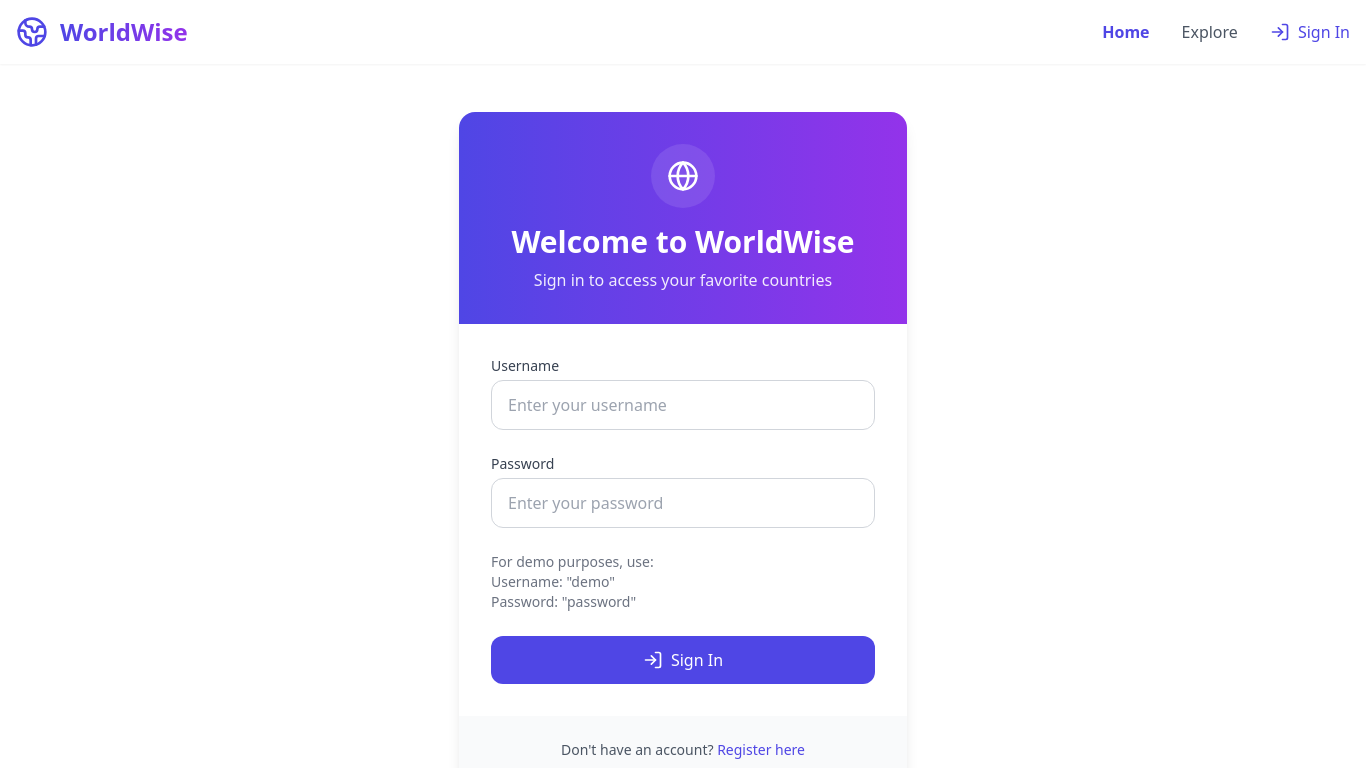
LoginPage › shows error when login fails
In the field labelled "Username": [683, 405] box [491,380,875,430], type "demo"
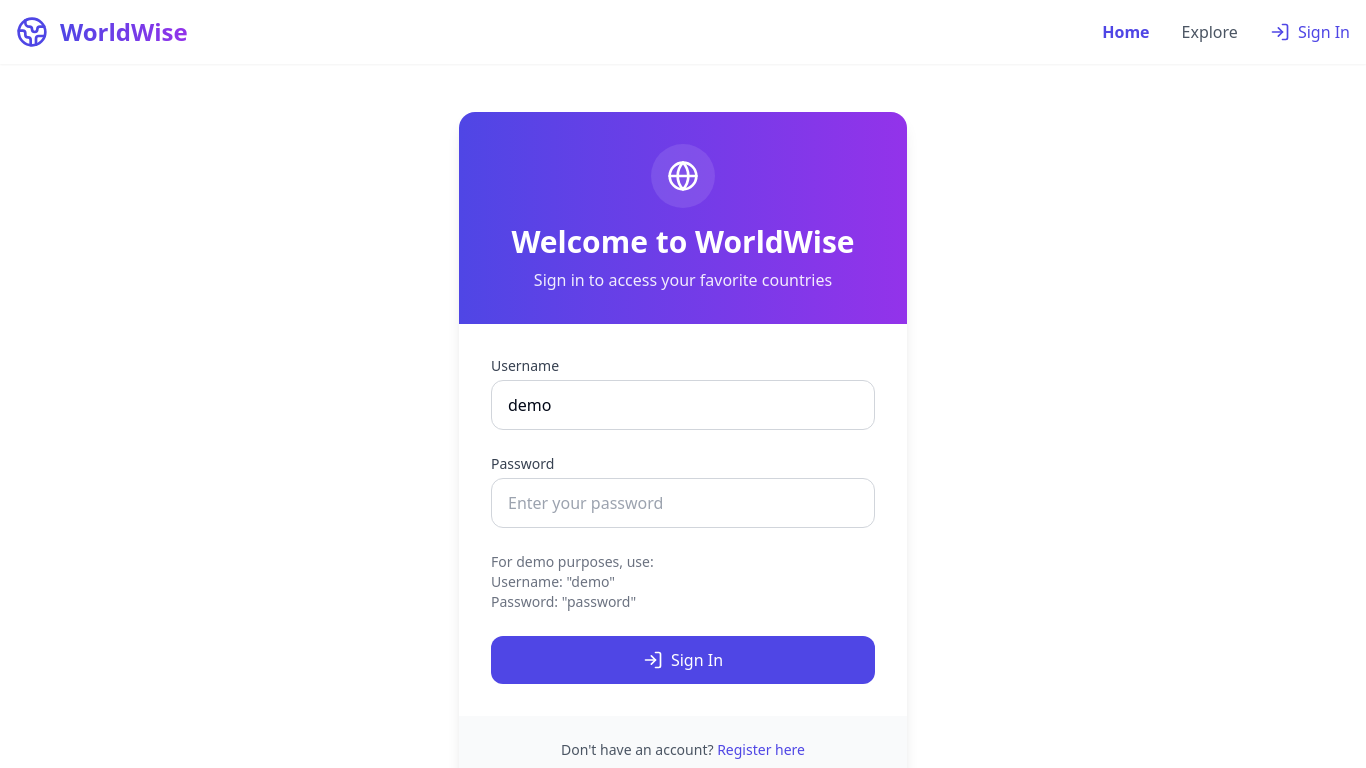
In the password field labelled "Password": [683, 503] box [491,478,875,528], type "password"
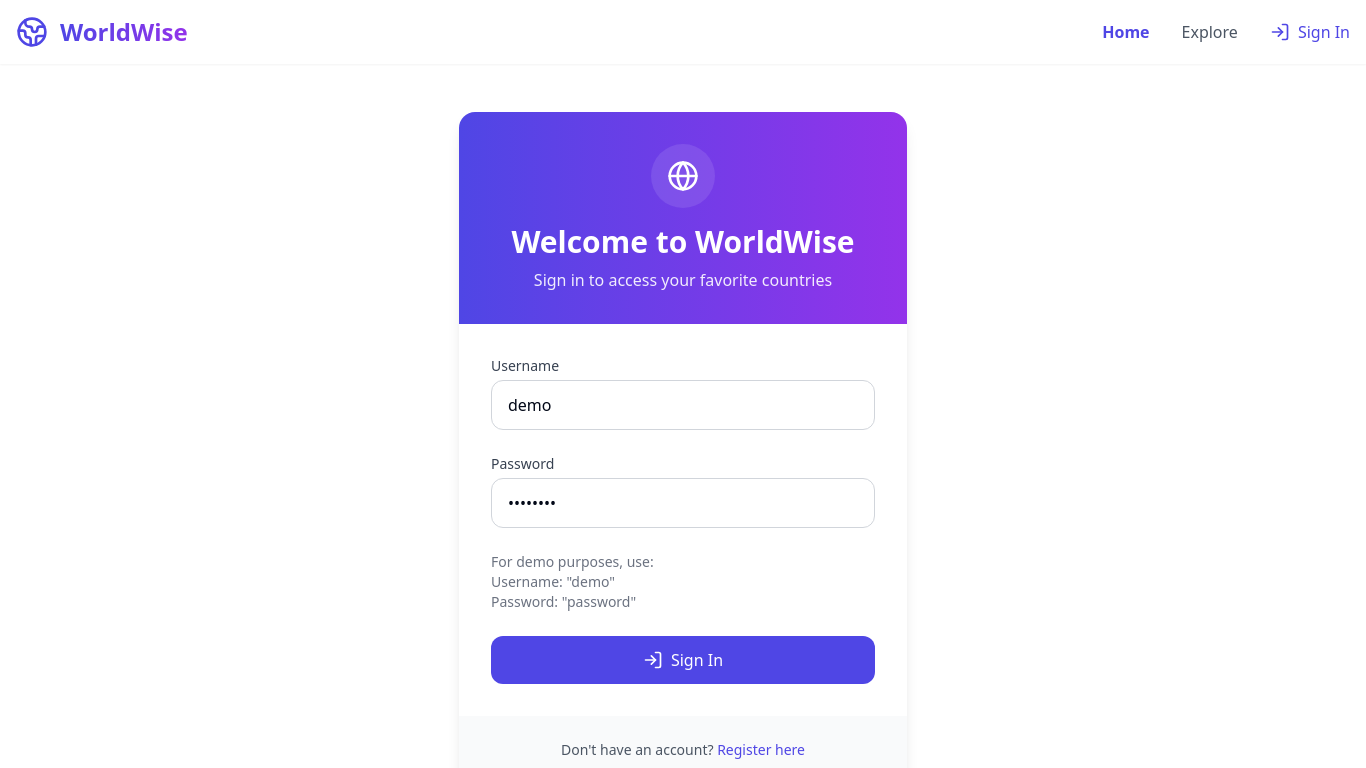
Click the button "Sign In": [683, 660] box [491,636,875,684]
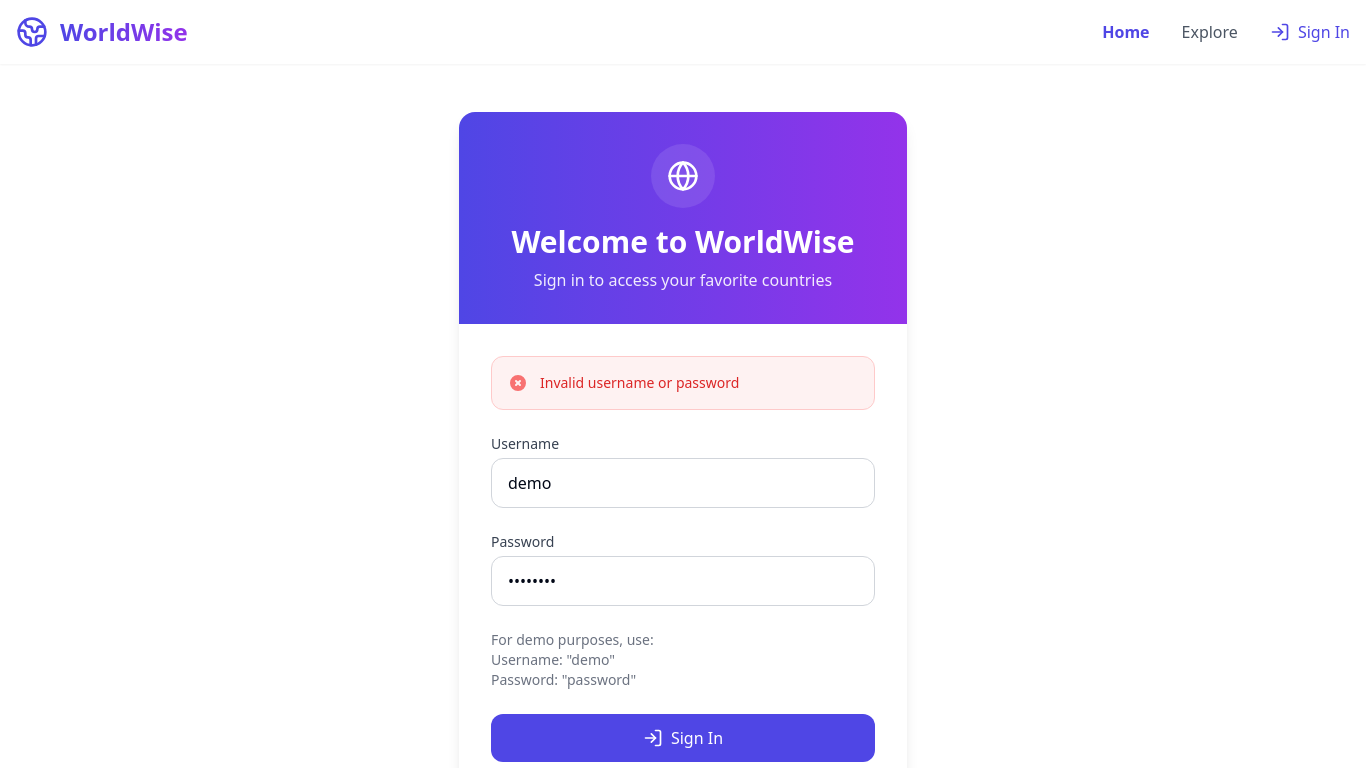
Result: the text "Invalid username or password" is shown at [540,373,739,393]
